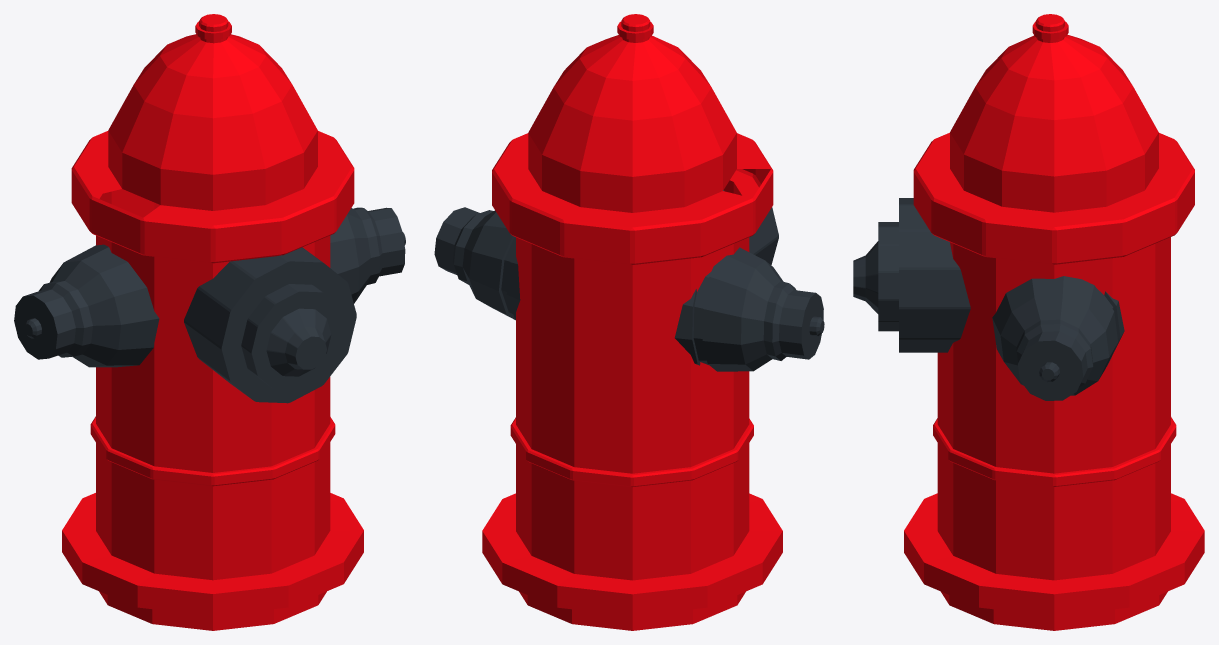
File: hydrant.glb
The picture shows the model from 3 angles, left to right: view 1: azimuth 30°, elevation 25°; view 2: azimuth 150°, elevation 25°; view 3: azimuth 270°, elevation 25°; orthographic projection.
Parts seen in each view (by area): view 1: fire-hydrant-metal; view 2: fire-hydrant-metal; view 3: fire-hydrant-metal.
Part boxes in pixels (x1,y1,x2,y2): fire-hydrant-metal: [14, 14, 405, 630]; fire-hydrant-metal: [434, 14, 824, 630]; fire-hydrant-metal: [853, 14, 1204, 630].
Size of the model in its own units: 3.58 by 5.1 by 2.9.
